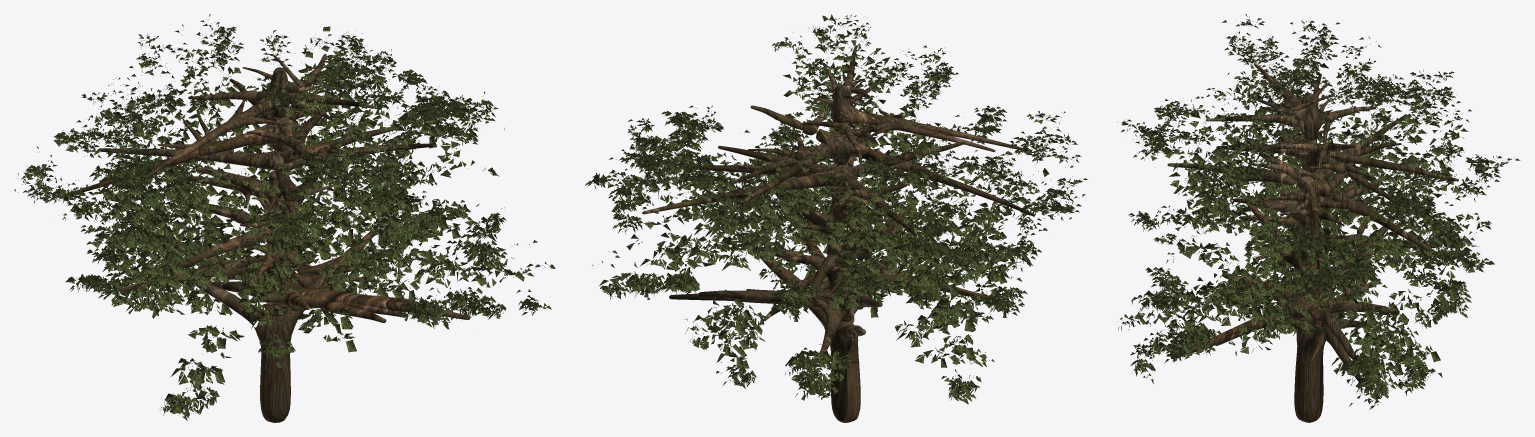
The model's file is tree-jacaranda-lod1.glb.
The picture shows the model from 3 angles, left to right: view 1: azimuth 30°, elevation 25°; view 2: azimuth 150°, elevation 25°; view 3: azimuth 270°, elevation 25°; orthographic projection. The views are drawn at different scales.
Parts seen in each view (by area): view 1: TREE_Leaves, TREE_Wood; view 2: TREE_Leaves, TREE_Wood; view 3: TREE_Leaves, TREE_Wood.
Boxes of the visible parts, box(x1,y1,x2,y2) form: TREE_Leaves: box(14, 14, 555, 420); TREE_Wood: box(66, 53, 470, 422); TREE_Leaves: box(585, 14, 1087, 404); TREE_Wood: box(642, 45, 1035, 422); TREE_Leaves: box(1117, 14, 1520, 409); TREE_Wood: box(1167, 64, 1458, 422).
Bounding box in the file's own units: 10.64 × 8.44 × 8.34.
2 materials, 2 textured.
